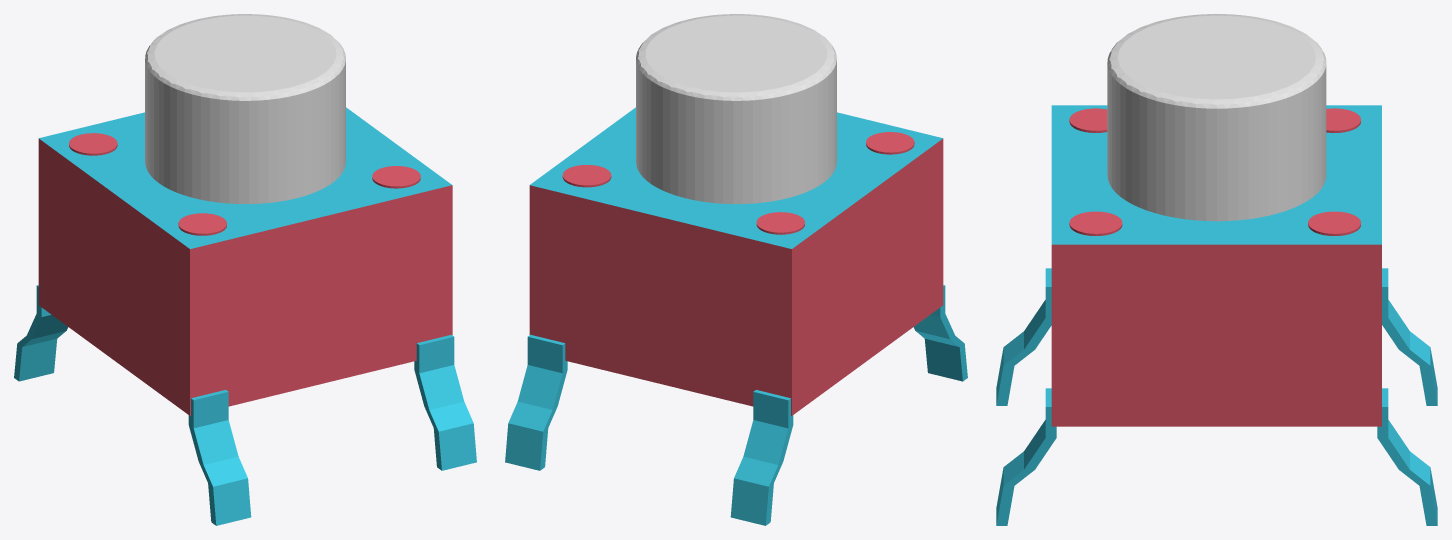
File: ButtonMomentary.fbx
The picture shows the model from 3 angles, left to right: view 1: azimuth 30°, elevation 25°; view 2: azimuth 150°, elevation 25°; view 3: azimuth 270°, elevation 25°; orthographic projection. The views are drawn at different scales.
Visible parts, largest first — view 1: Cube, Cylinder; view 2: Cube, Cylinder; view 3: Cube, Cylinder.
Boxes of the visible parts, x1,y1,x2,y2 form: Cube: [14, 107, 476, 525]; Cylinder: [145, 14, 345, 204]; Cube: [505, 107, 967, 525]; Cylinder: [636, 14, 836, 204]; Cube: [996, 105, 1437, 525]; Cylinder: [1107, 14, 1326, 221].
Bounding box in the file's own units: 300 × 400 × 401.
